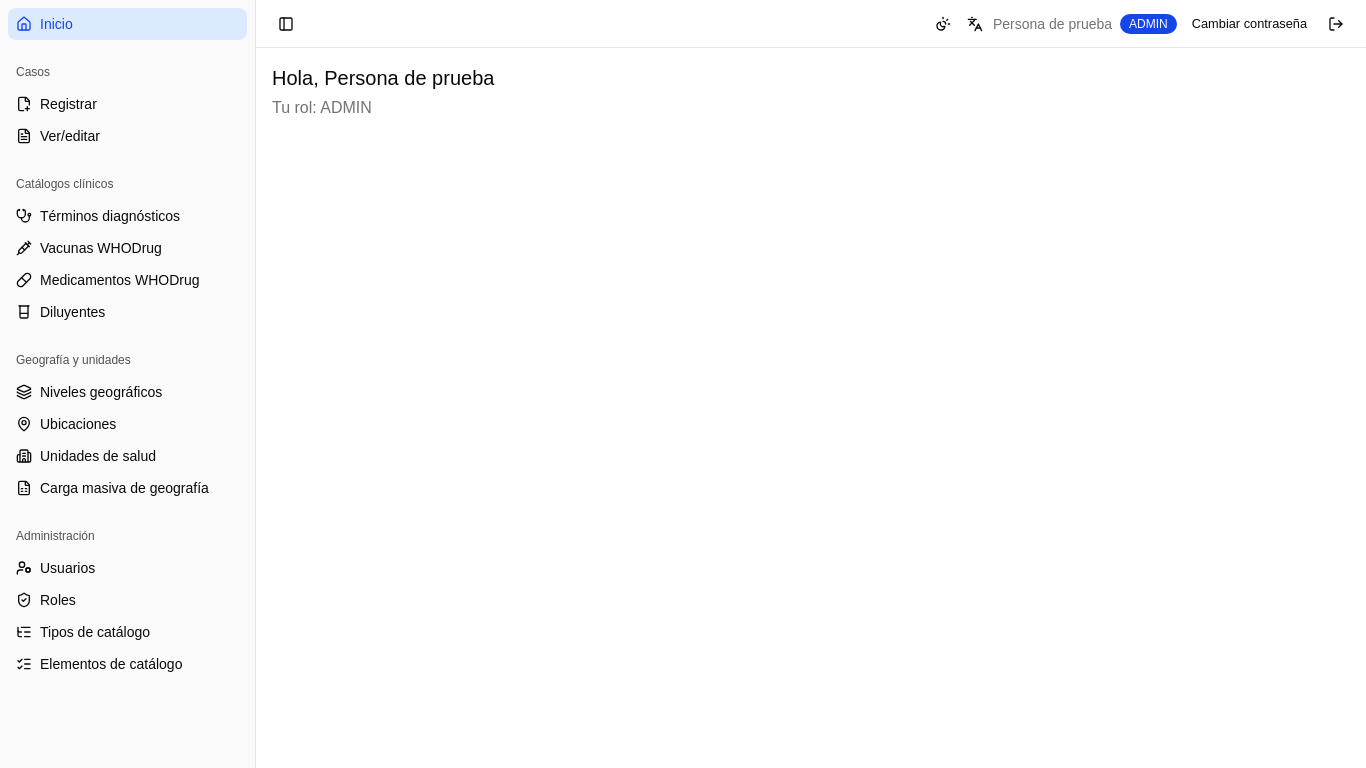
it: Ruta /users — navegación desde el sidebar (SPEC FE20 §4 paso 11) › la entrada del menú es un enlace y navega
The image size is (1366, 768).
Click the link "Usuarios".
click(56, 568)  # box [16,560,95,576]
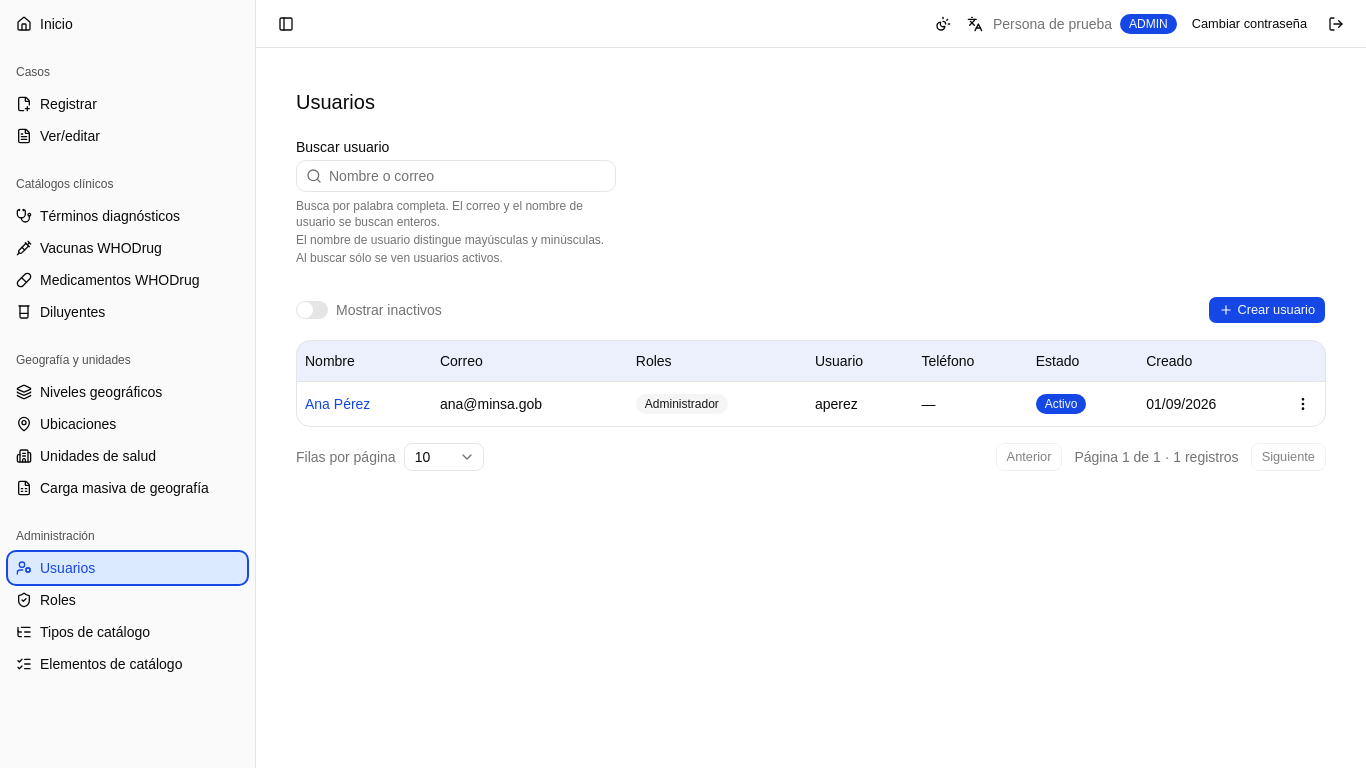
Expected: the heading "Usuarios" is shown, [296,91,375,113]
